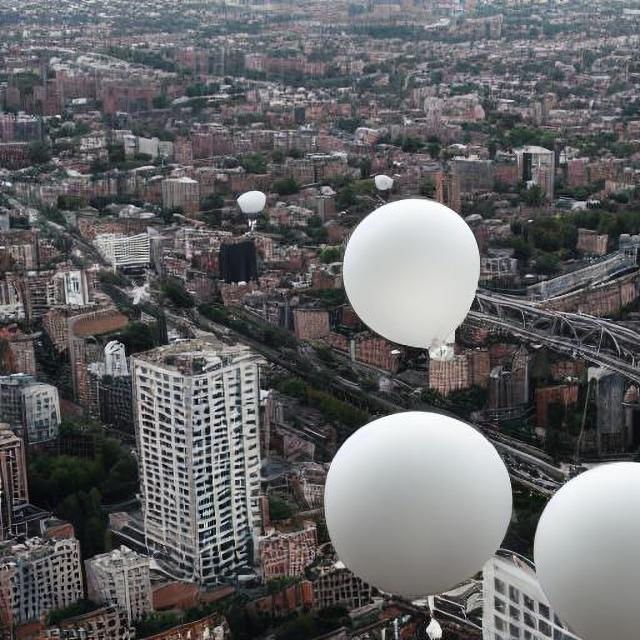balloon: (310, 185, 518, 382), (316, 405, 524, 596), (528, 459, 640, 636), (219, 176, 295, 247)
